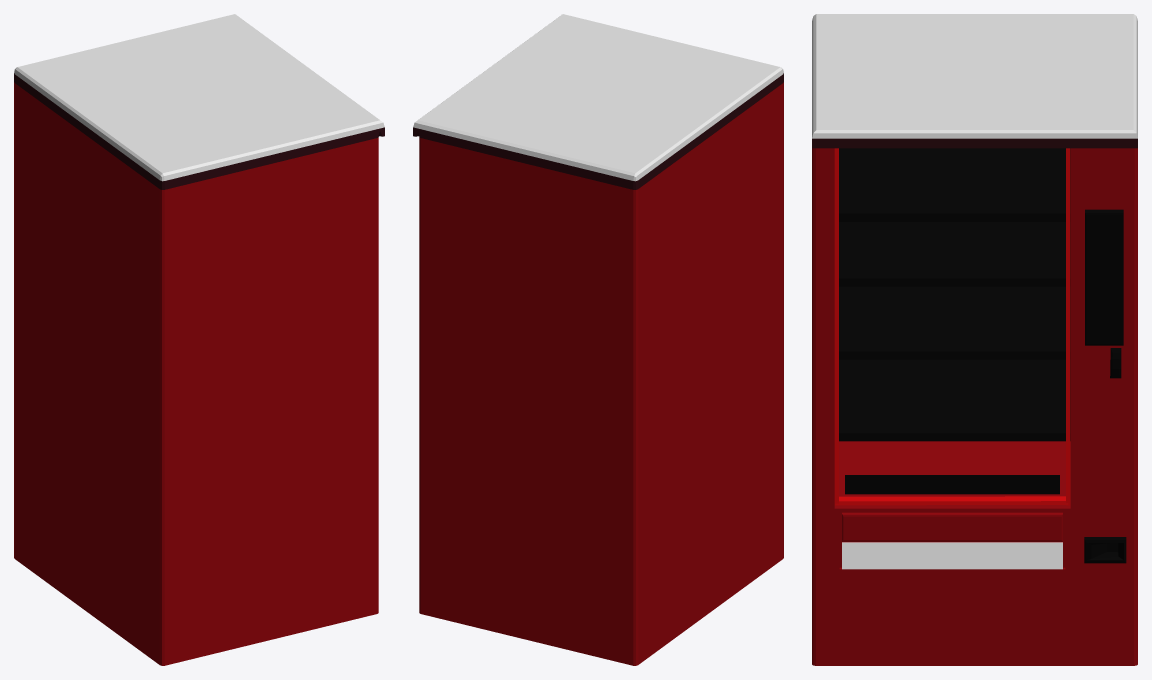
Rendered from soda_machine.fbx.
3 renders of one model, left to right at view 1: azimuth 30°, elevation 25°; view 2: azimuth 150°, elevation 25°; view 3: azimuth 270°, elevation 25°, orthographic. The views are drawn at different scales.
Visible parts, largest first — view 1: Cube; view 2: Cube; view 3: Cube.
Part boxes in pixels (x1,y1,x2,y2): Cube: (14,14,384,665); Cube: (413,14,783,665); Cube: (812,14,1137,665).
Size of the model in its own units: 511 by 1073 by 590.
